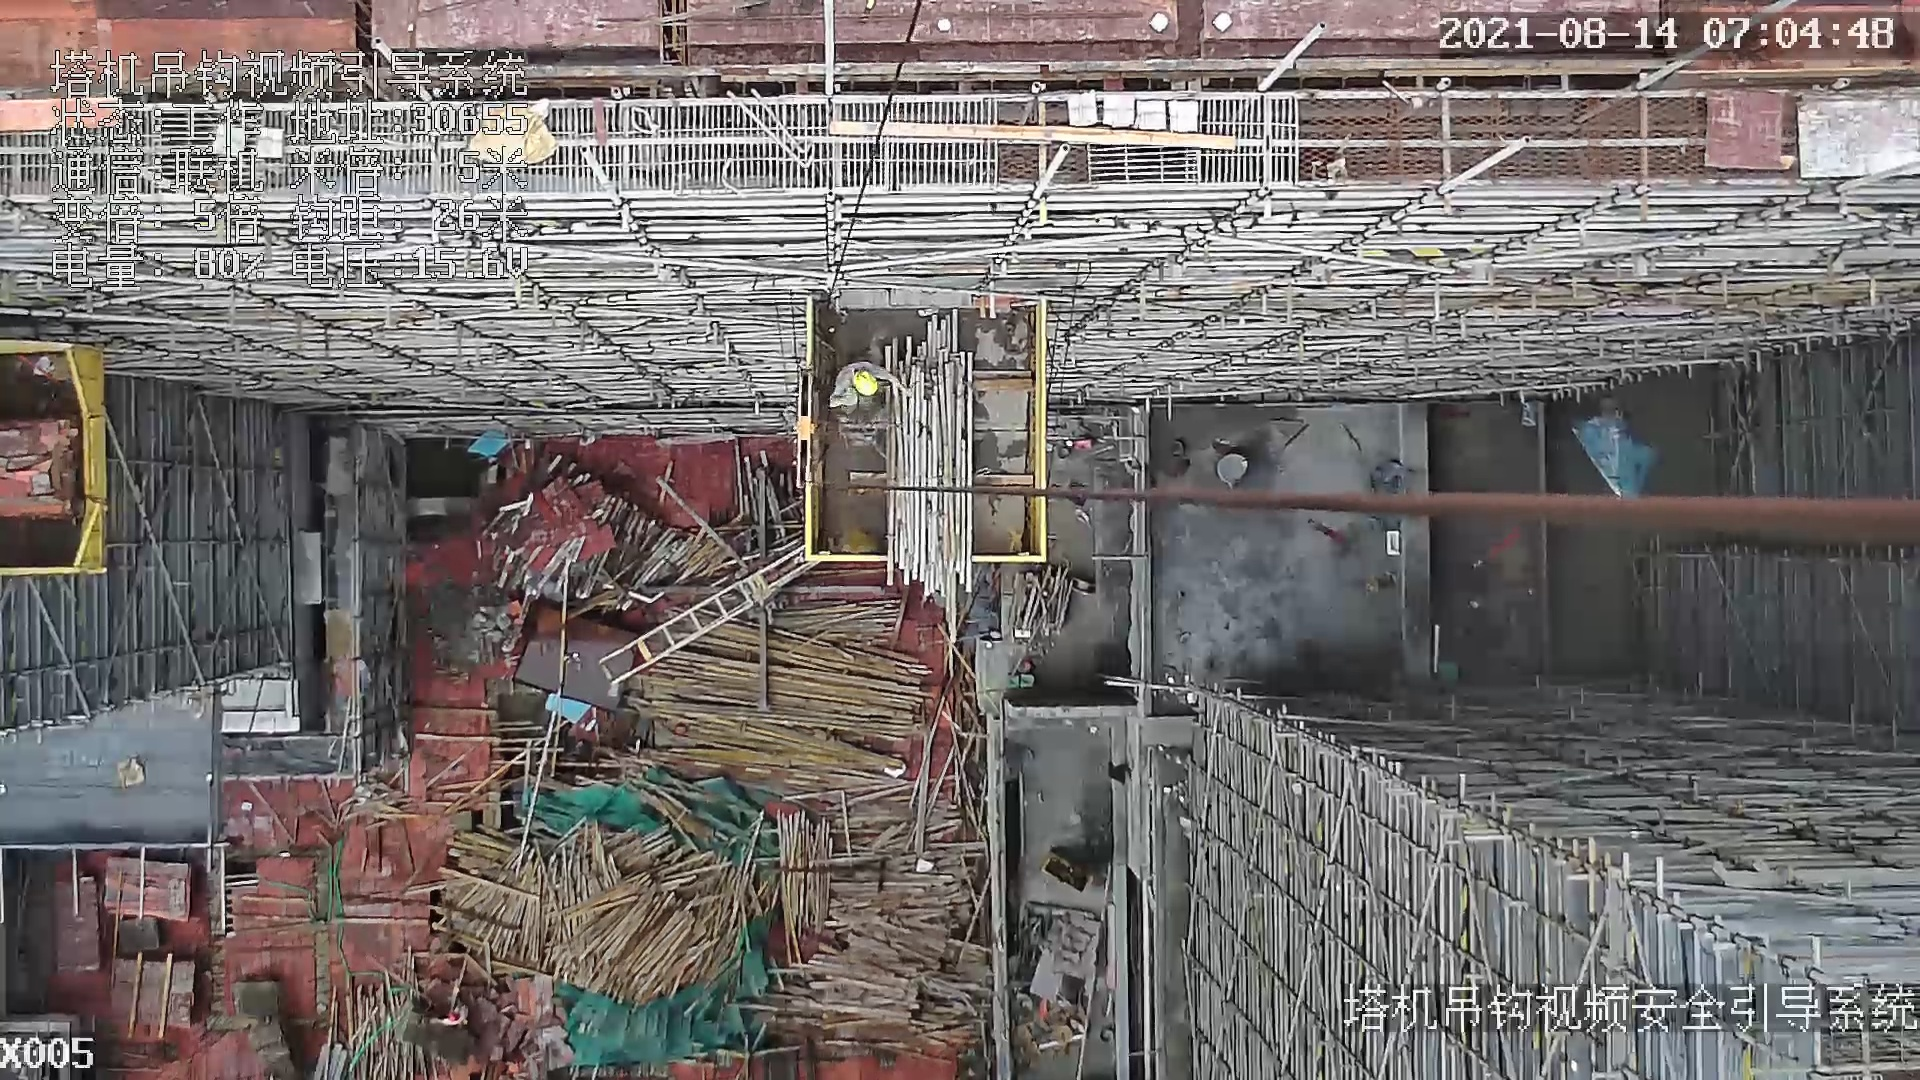helmet: (853, 369, 878, 398)
hook: (790, 365, 817, 491)
person: (828, 356, 919, 410)
